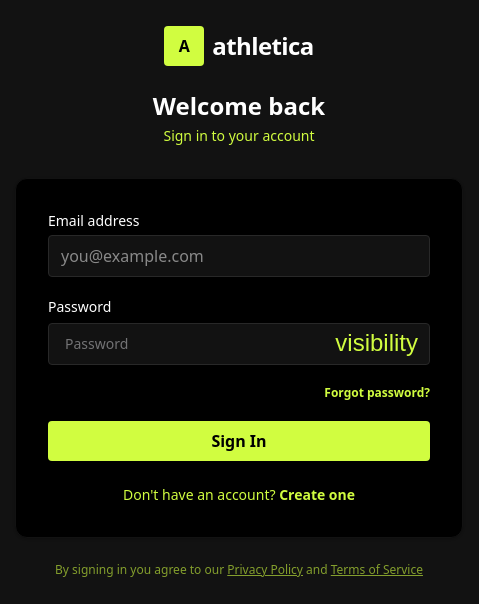
LoginForm › server error handling › should show field-level error when login() returns fields error
The width and height of the screenshot is (479, 604).
Type "unknown@example.com" into the field labelled "Email address". click: x=239, y=256
box: [48, 235, 430, 277]
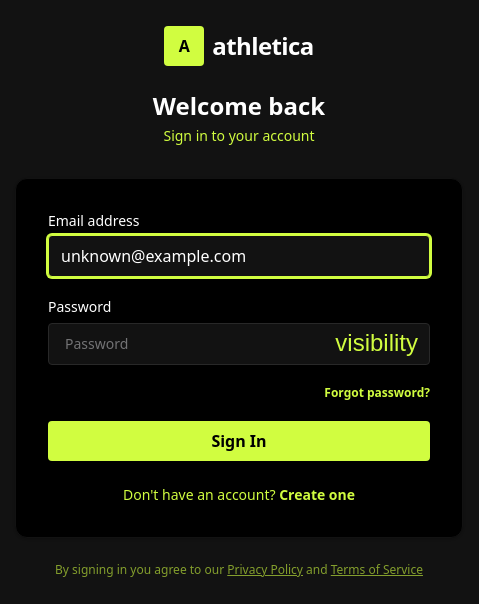
Type "anypass" into the password field with placeholder "Password". click: x=239, y=344
box: [48, 323, 430, 365]
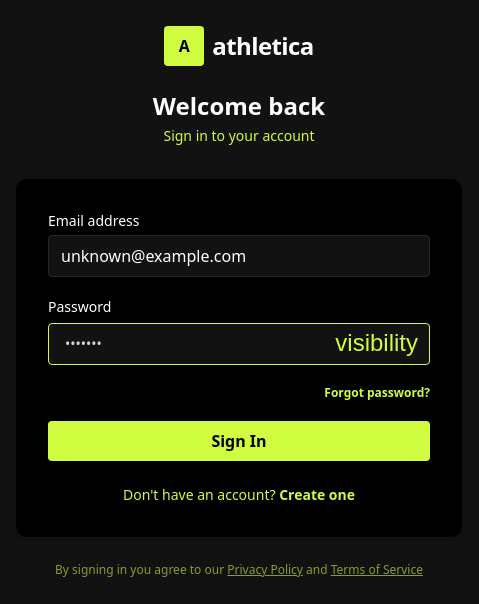
Click the button "Sign In". click: x=239, y=441
box: [48, 421, 430, 461]
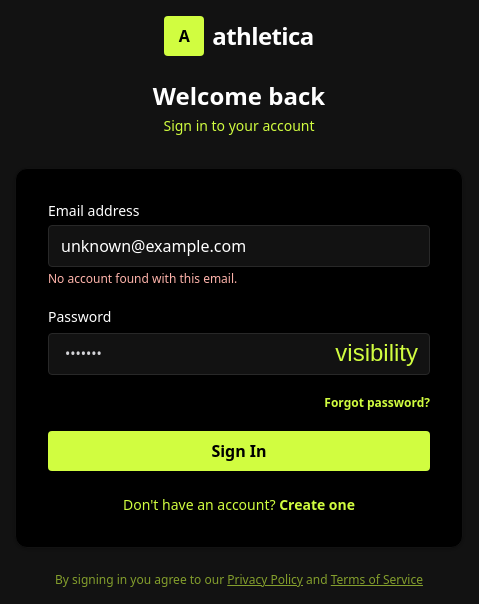
Now the text "No account found with this email." is shown, box [48, 270, 237, 287]
